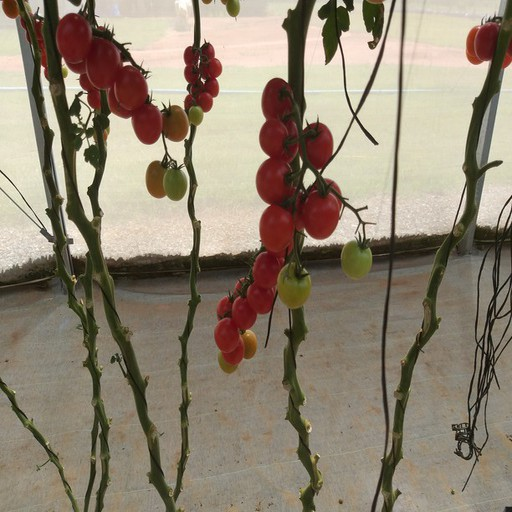mixed tomato bunch: (1, 1, 68, 80)
red tomato bunch: (216, 77, 371, 383), (58, 10, 161, 144), (182, 42, 222, 124), (465, 13, 512, 67)
